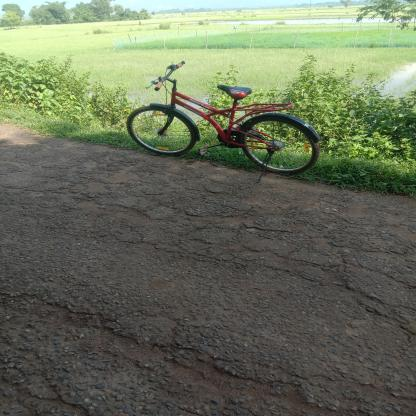bike: (94, 56, 350, 206)
